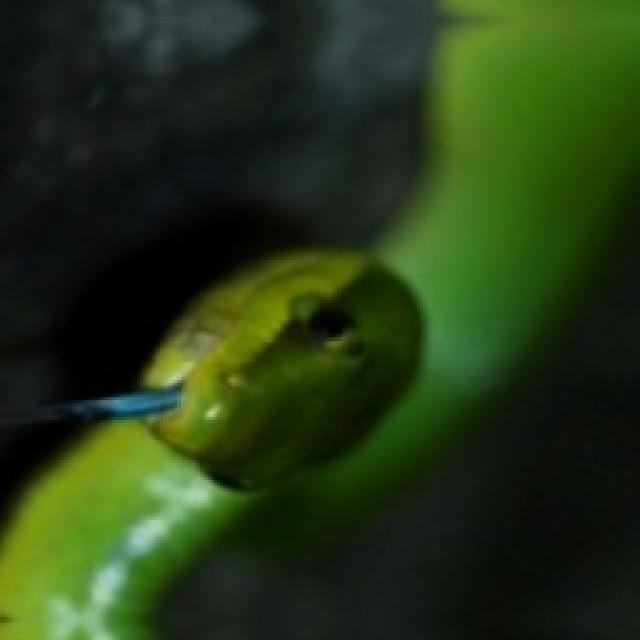red-tailed green ratsnake: (0, 0, 637, 637), (0, 251, 420, 637), (143, 251, 420, 486)
